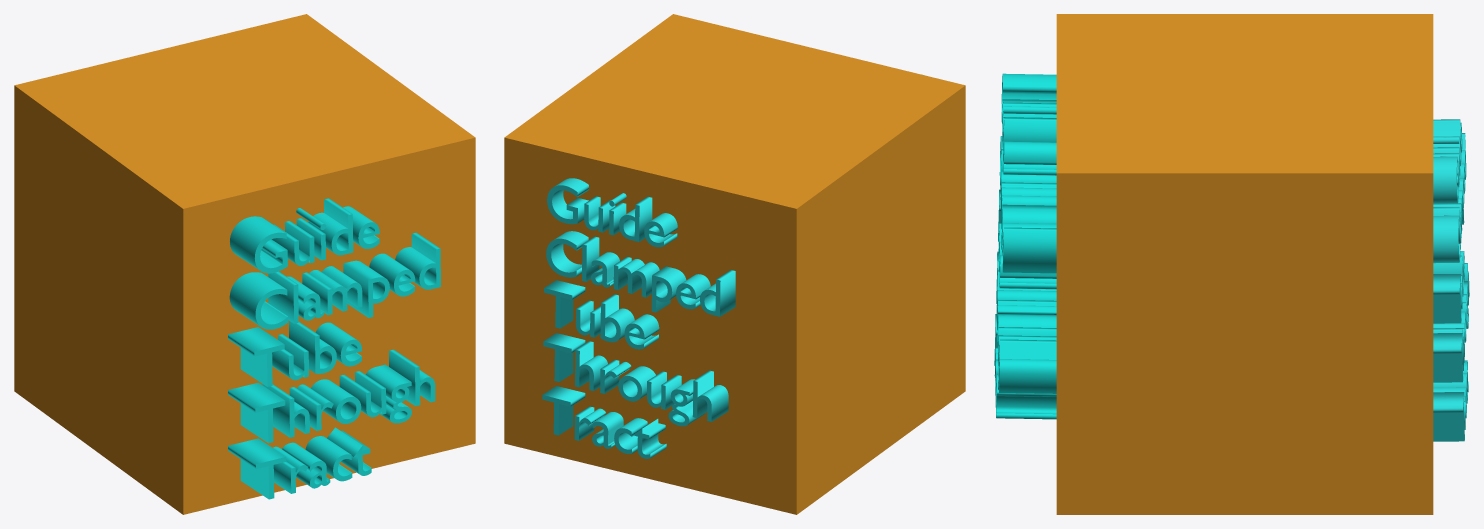
Rendered from guideclampedtube (1).glb.
3 renders of one model, left to right at view 1: azimuth 30°, elevation 25°; view 2: azimuth 150°, elevation 25°; view 3: azimuth 270°, elevation 25°, orthographic. The views are drawn at different scales.
Parts seen in each view (by area): view 1: Cube, Text.001; view 2: Cube, Text.002; view 3: Cube, Text.001, Text.002.
Part boxes in pixels (x1=…): Cube: x1=14, y1=14, x2=475, y2=514; Text.001: x1=228, y1=198, x2=440, y2=499; Cube: x1=504, y1=14, x2=965, y2=514; Text.002: x1=542, y1=178, x2=735, y2=458; Cube: x1=1056, y1=14, x2=1433, y2=514; Text.001: x1=994, y1=73, x2=1056, y2=419; Text.002: x1=1433, y1=119, x2=1469, y2=441.
Size of the model in its own units: 2 by 2 by 2.52.
